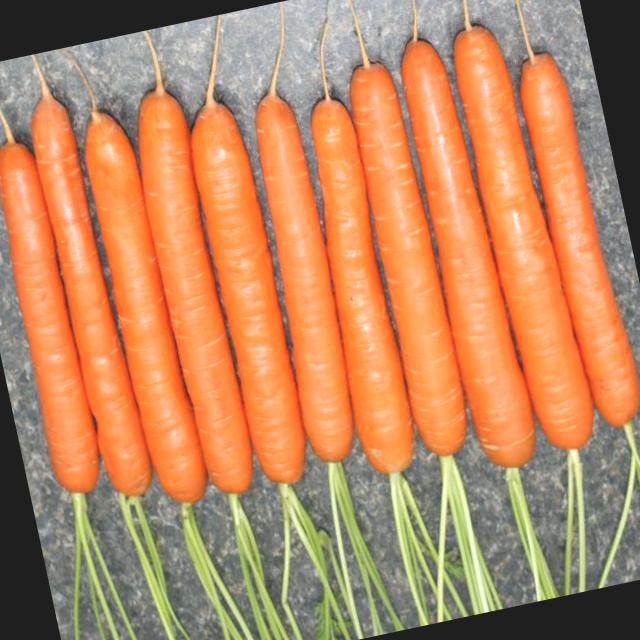carrot: (455, 24, 594, 449), (403, 43, 537, 466), (78, 103, 212, 504), (31, 90, 155, 497), (139, 91, 253, 494), (351, 65, 467, 457), (517, 56, 640, 425), (191, 103, 307, 483), (0, 129, 110, 505), (313, 103, 415, 474), (255, 98, 356, 464)
